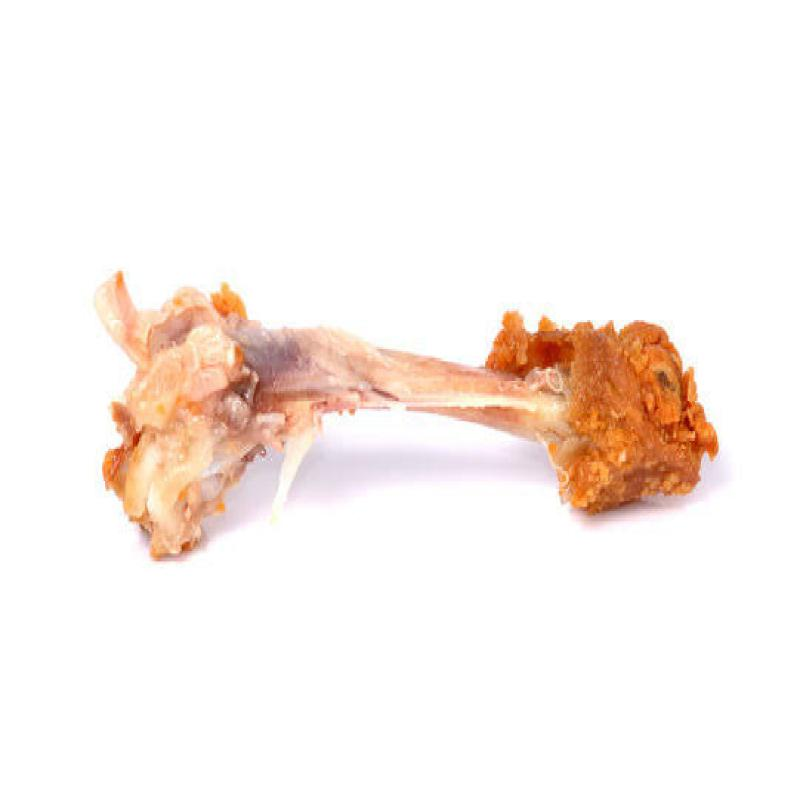left-over food: (87, 269, 722, 562)
